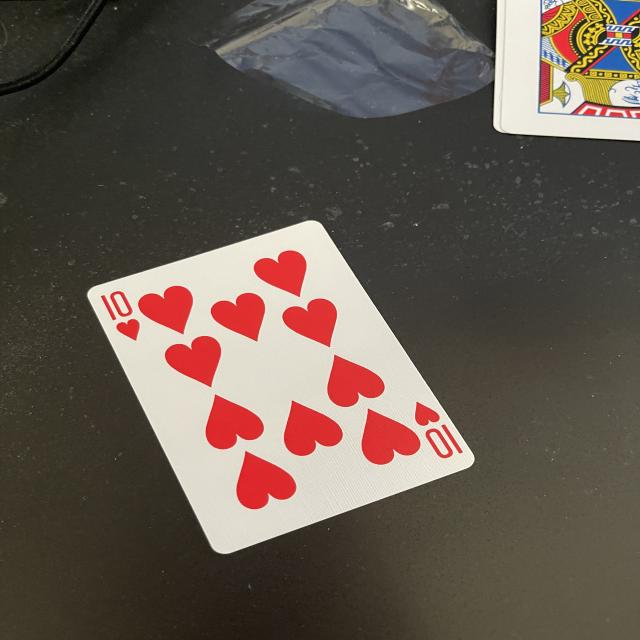10 of hearts: (87, 219, 480, 555)
